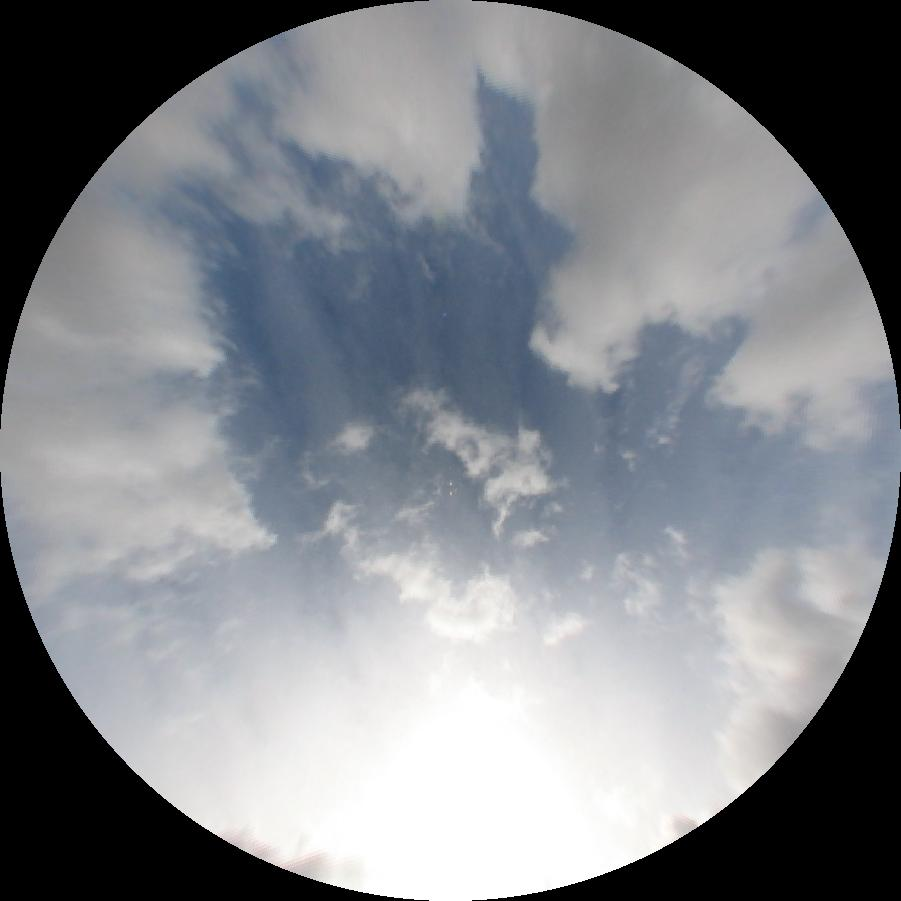contrail veryold: (486, 149, 563, 342)
sun: (345, 701, 613, 898)
